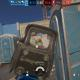Character: (40, 40, 42, 45)
Friend_label: (25, 46, 30, 49), (4, 49, 8, 52)
